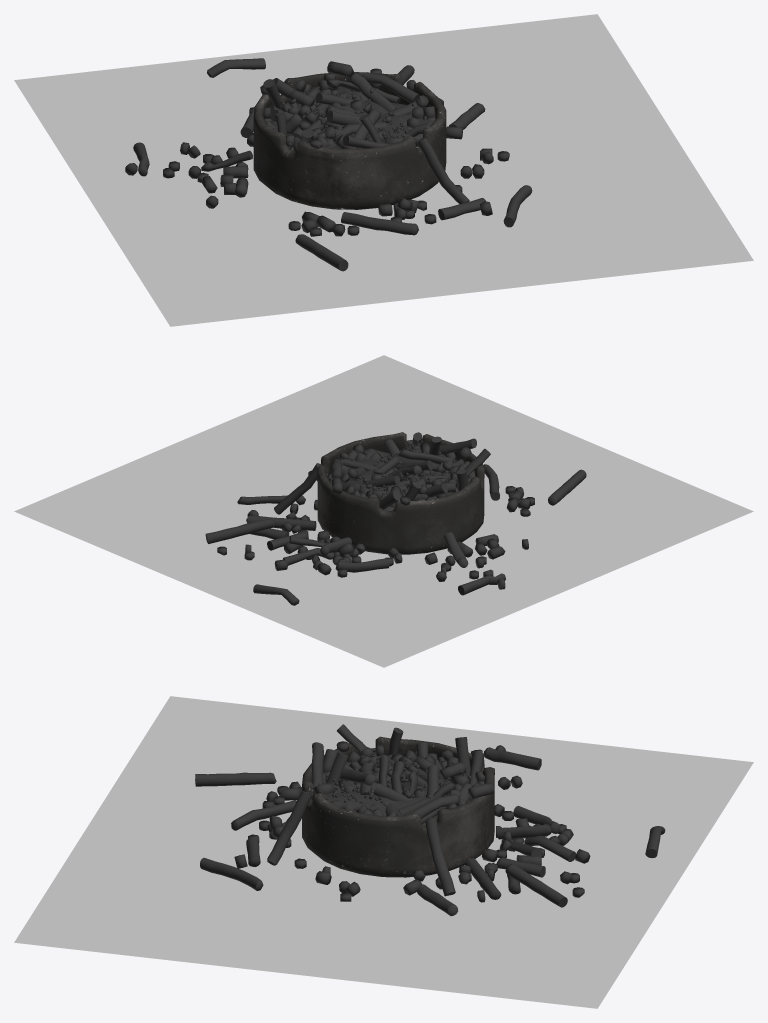
File: AshtrayFull.fbx
3 views of the same model, one above another, from view 1: azimuth 30°, elevation 25°; view 2: azimuth 150°, elevation 25°; view 3: azimuth 270°, elevation 25° (orthographic). The views are drawn at different scales.
Visible parts, largest first — view 1: Ashtray2; view 2: Ashtray2; view 3: Ashtray2.
Part boxes in pixels (<box>): Ashtray2: <box>14,14,753,326</box>; Ashtray2: <box>14,355,753,667</box>; Ashtray2: <box>14,696,753,1008</box>.
Bounding box in the file's own units: 36.74 × 36.74 × 4.45.
